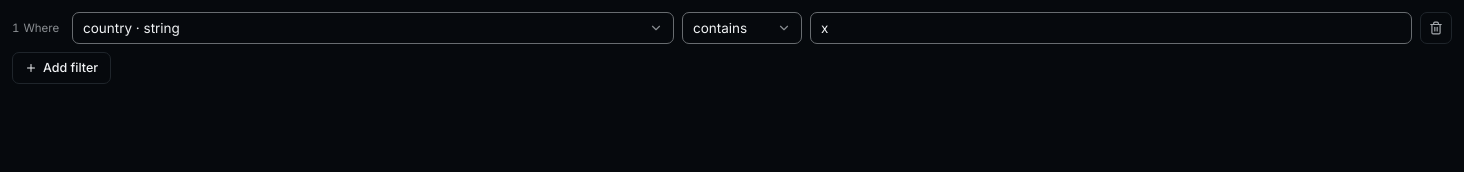
Test: FactFilterEditor conditions (MET-32) › falls back to "=" when the new column rules the operator out
Select "amount · number" in the dropdown named "Filter 1 condition column" at (373, 28), box [72,12,674,44]
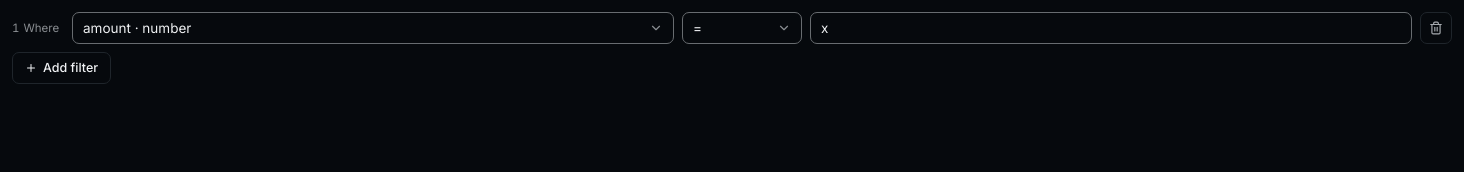
Expected: the dropdown named "Filter 1 condition operator" shows "=", [682,12,802,44]
